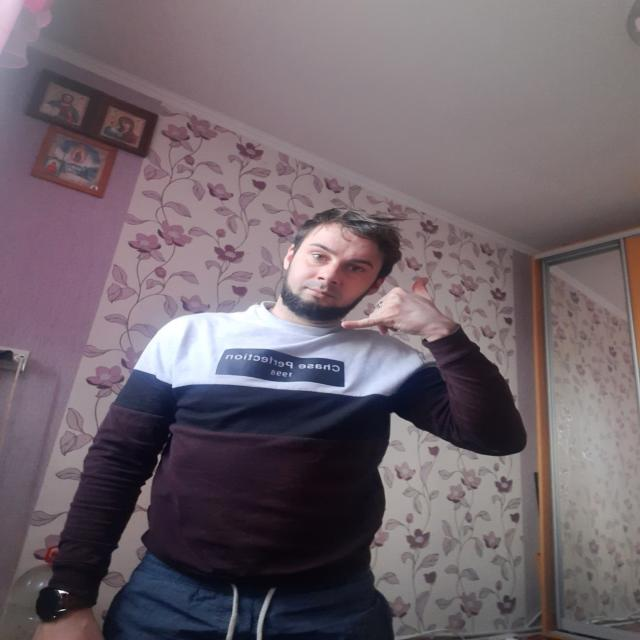call: (335, 275, 446, 338)
